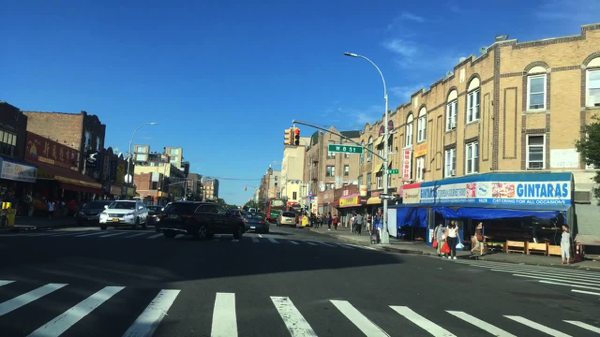bike: (0, 206, 11, 228)
bus: (267, 196, 286, 223)
car: (154, 200, 247, 240), (98, 198, 150, 232), (78, 199, 112, 226), (242, 211, 269, 233), (147, 205, 166, 225), (276, 210, 296, 228), (231, 207, 247, 219), (249, 207, 257, 211)
person: (439, 218, 464, 259), (430, 220, 446, 258), (558, 223, 572, 264), (469, 220, 484, 257), (66, 198, 78, 218), (47, 198, 56, 220), (354, 212, 363, 233), (365, 211, 373, 234), (326, 211, 334, 232), (28, 190, 34, 211), (54, 198, 60, 217), (332, 214, 339, 230), (348, 214, 353, 231), (316, 215, 320, 230), (320, 215, 324, 228)
traffic light: (282, 127, 291, 144), (293, 127, 300, 147), (244, 185, 247, 192)
traffic sign: (327, 143, 364, 154), (378, 193, 397, 201), (123, 173, 132, 184), (386, 169, 399, 175)
